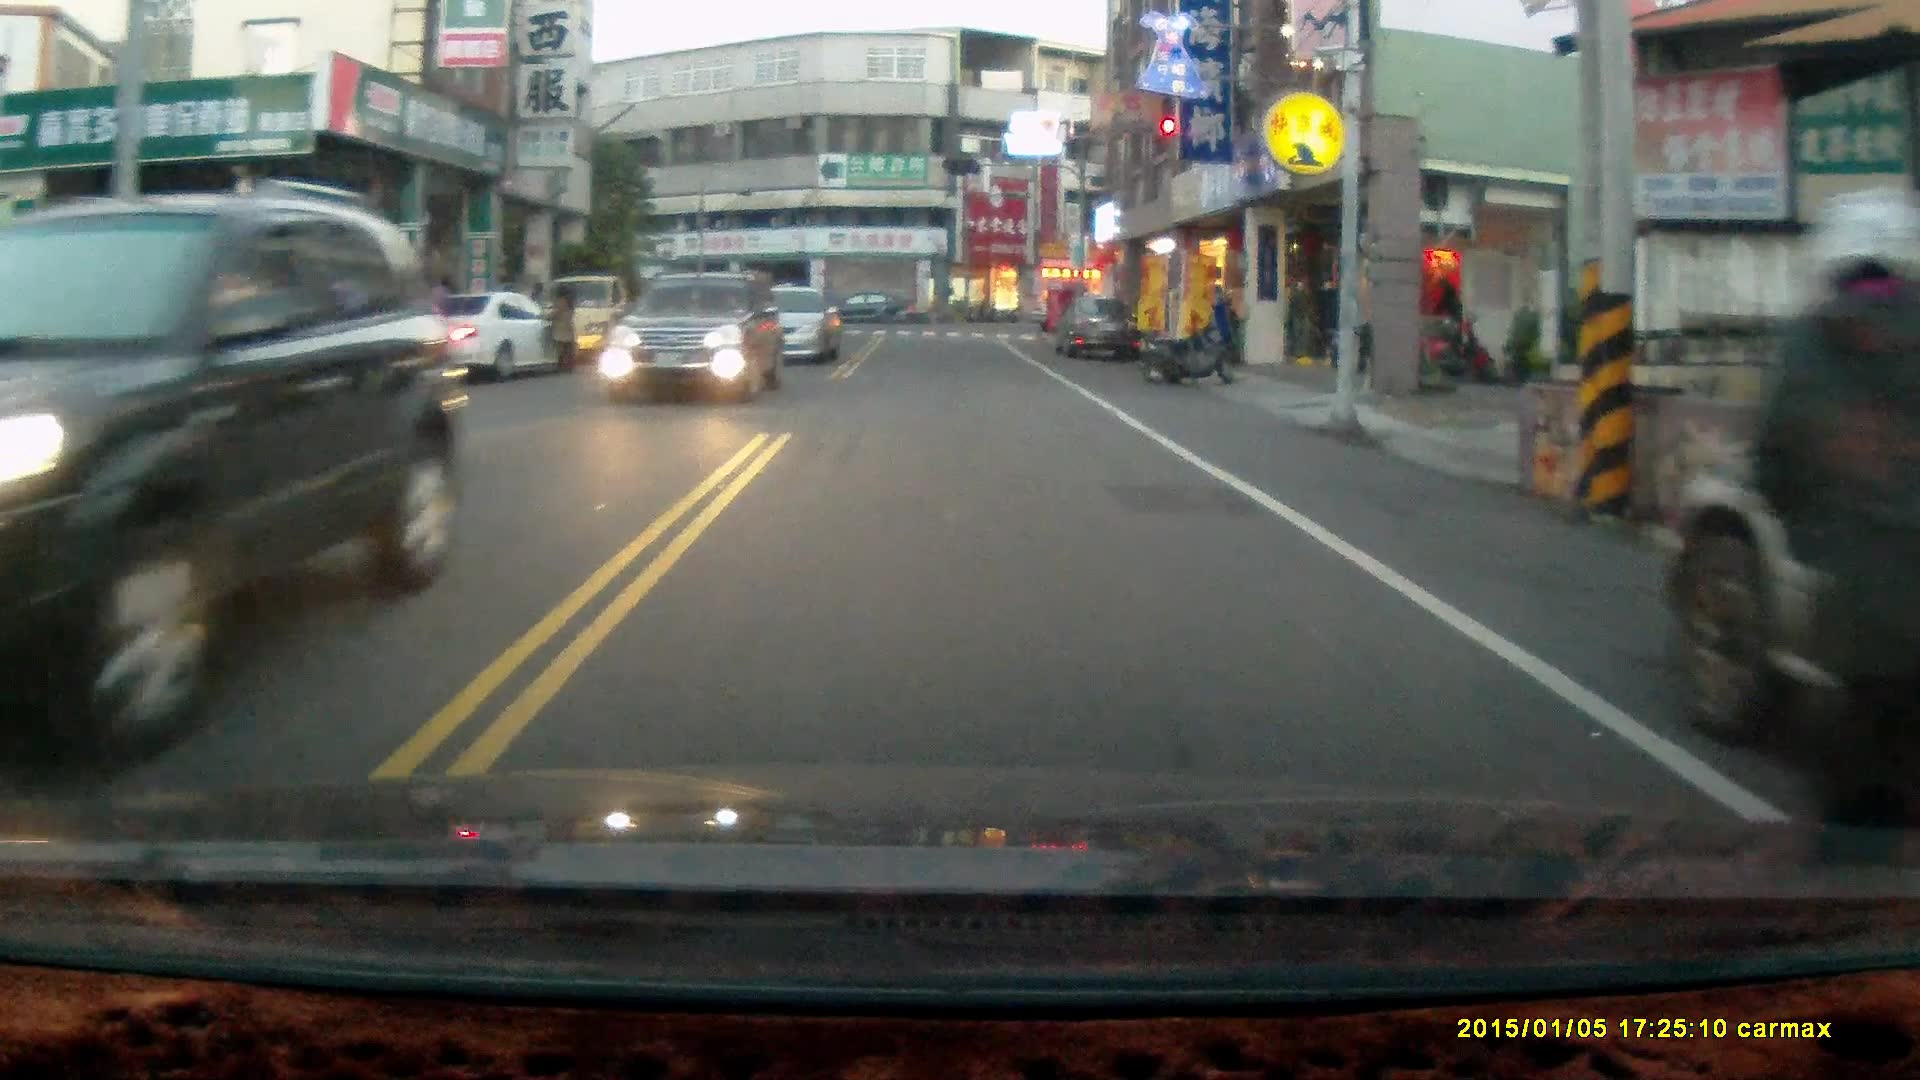pedestrian: (540, 279, 574, 376)
rider: (1738, 187, 1920, 864)
vehicle: (2, 179, 491, 738), (1661, 331, 1920, 778), (611, 267, 785, 405), (397, 288, 578, 386), (723, 282, 846, 364), (1050, 295, 1143, 366), (817, 289, 925, 329)
